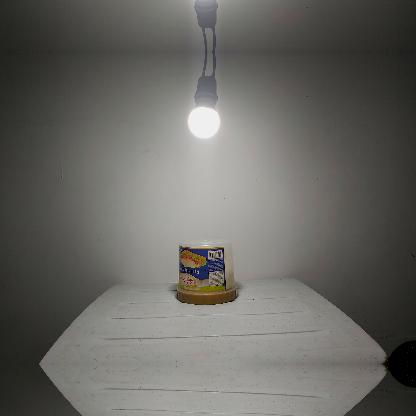Lady-s-Choice: (176, 236, 238, 304)
